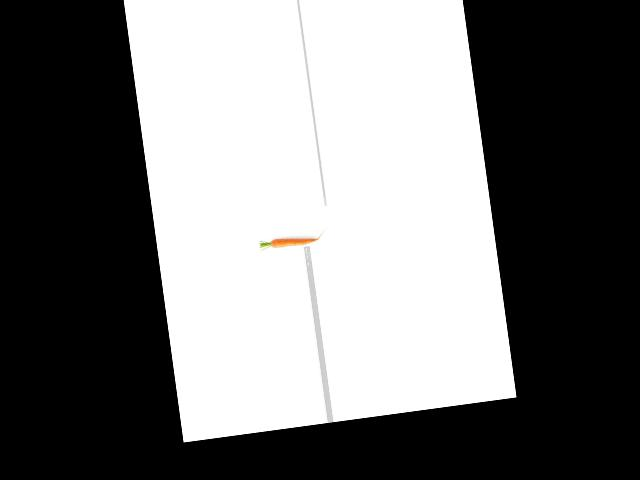carrot: (266, 233, 310, 251)
